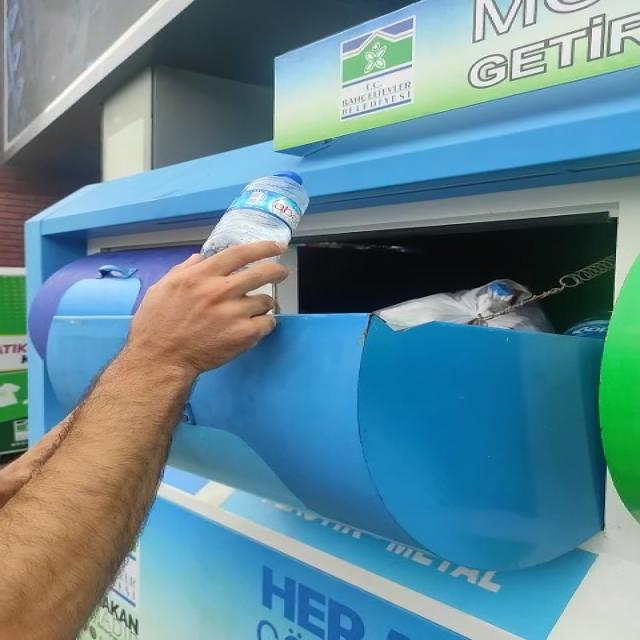plastic: (201, 171, 309, 256)
